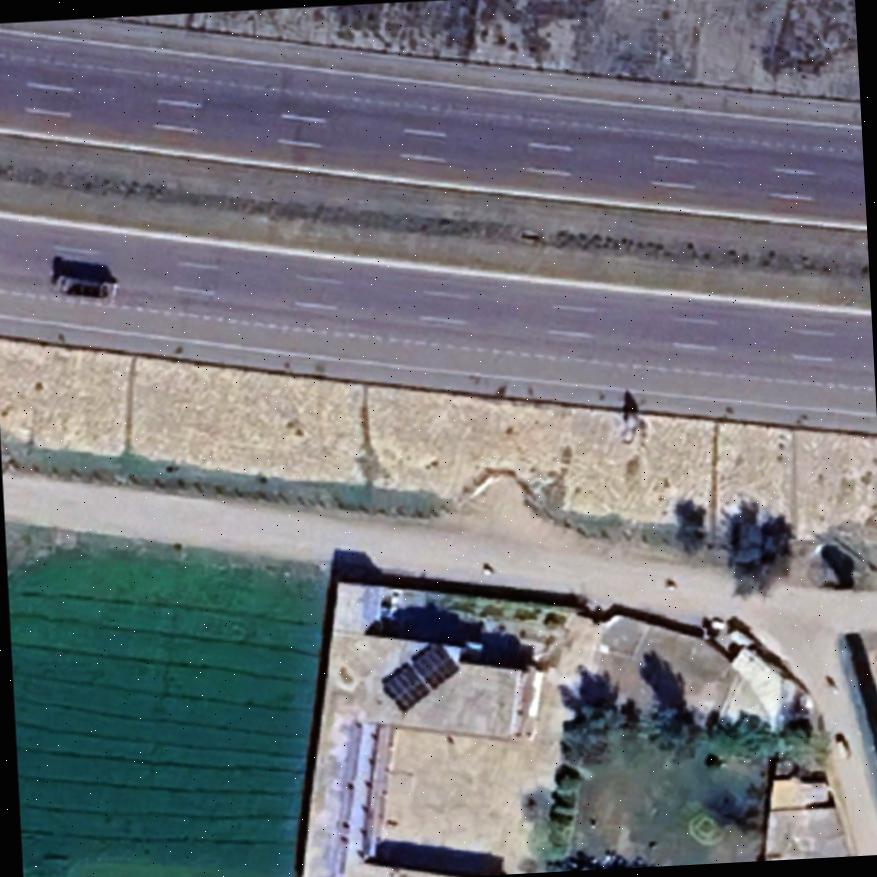Solarpanel: (375, 638, 460, 713)
